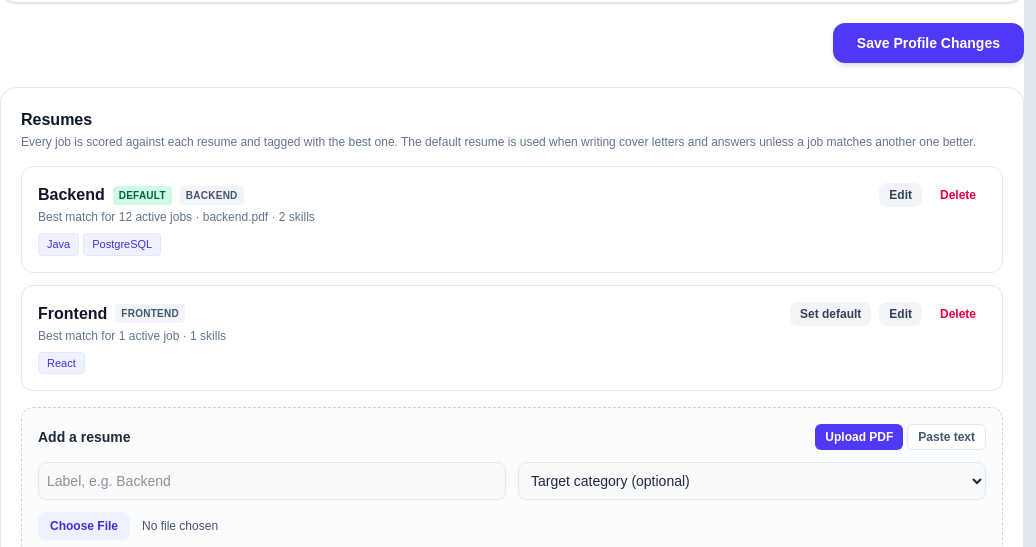
Test: ProfileManager › edits a resume's label and skills
The image size is (1036, 547).
(page scrolled)
Expected: the number of list items with test id "resume-item" is 2, [21,166,1003,272]; [21,284,1003,391]
Step 1. Click the 2nd button "Edit" → {"x": 901, "y": 314}, box [879,302,922,326]
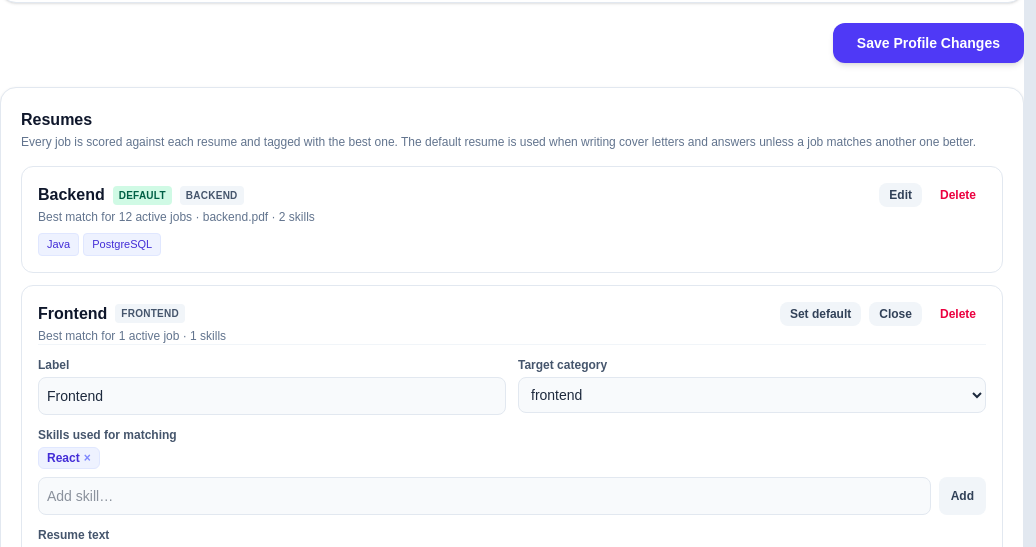
Step 2. Replace the text in the field showing "Frontend" with "Frontend v2" → {"x": 272, "y": 396}, box [38,376,506,414]
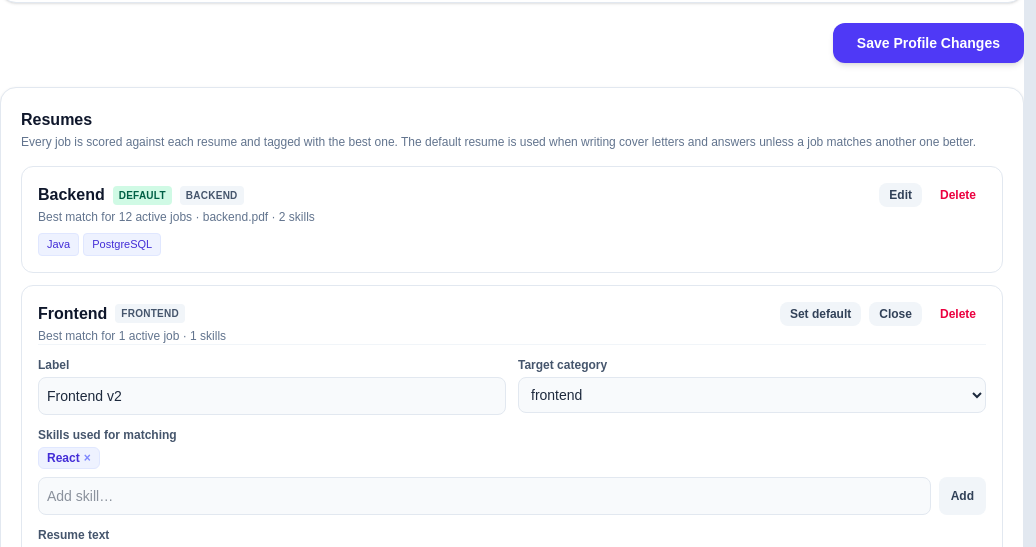
Step 3. Click the button named "Remove React" → {"x": 87, "y": 458}, box [84,450,91,466]
(page scrolled)
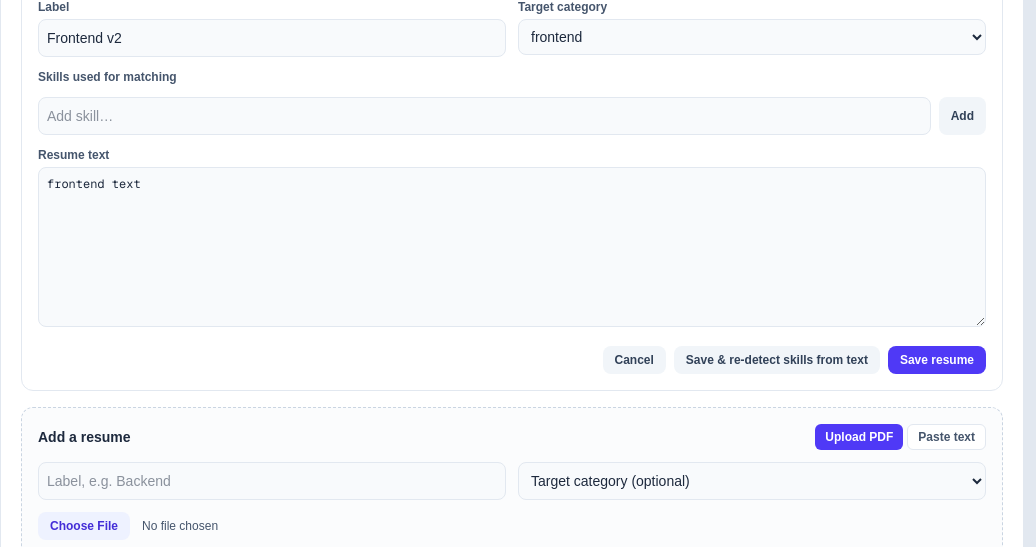
Step 4. Click the button "Save resume" → {"x": 937, "y": 360}, box [888,346,986,374]
(page scrolled)
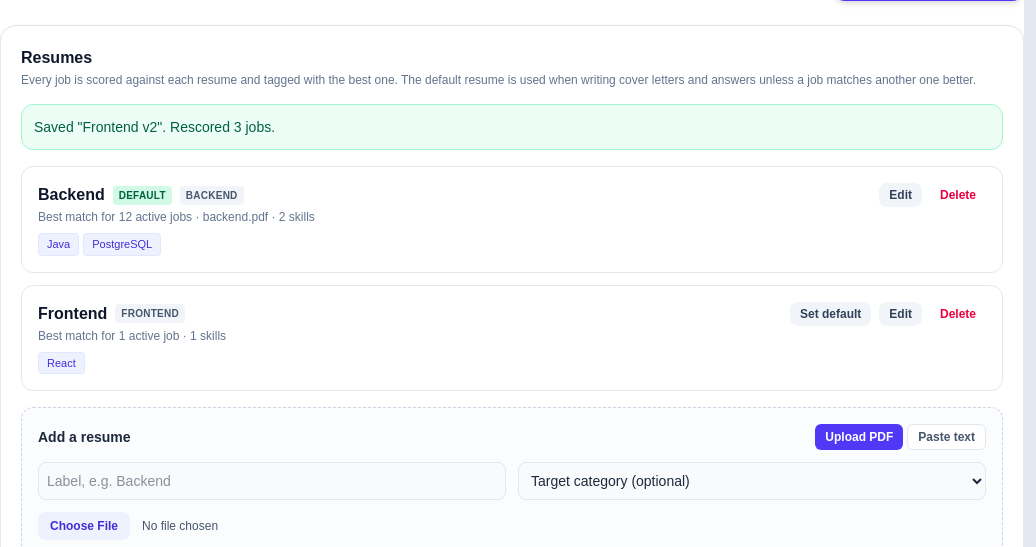
Result: the text "Saved \"Frontend v2\". Rescored 3 jobs." is shown at [21,104,1003,150]
